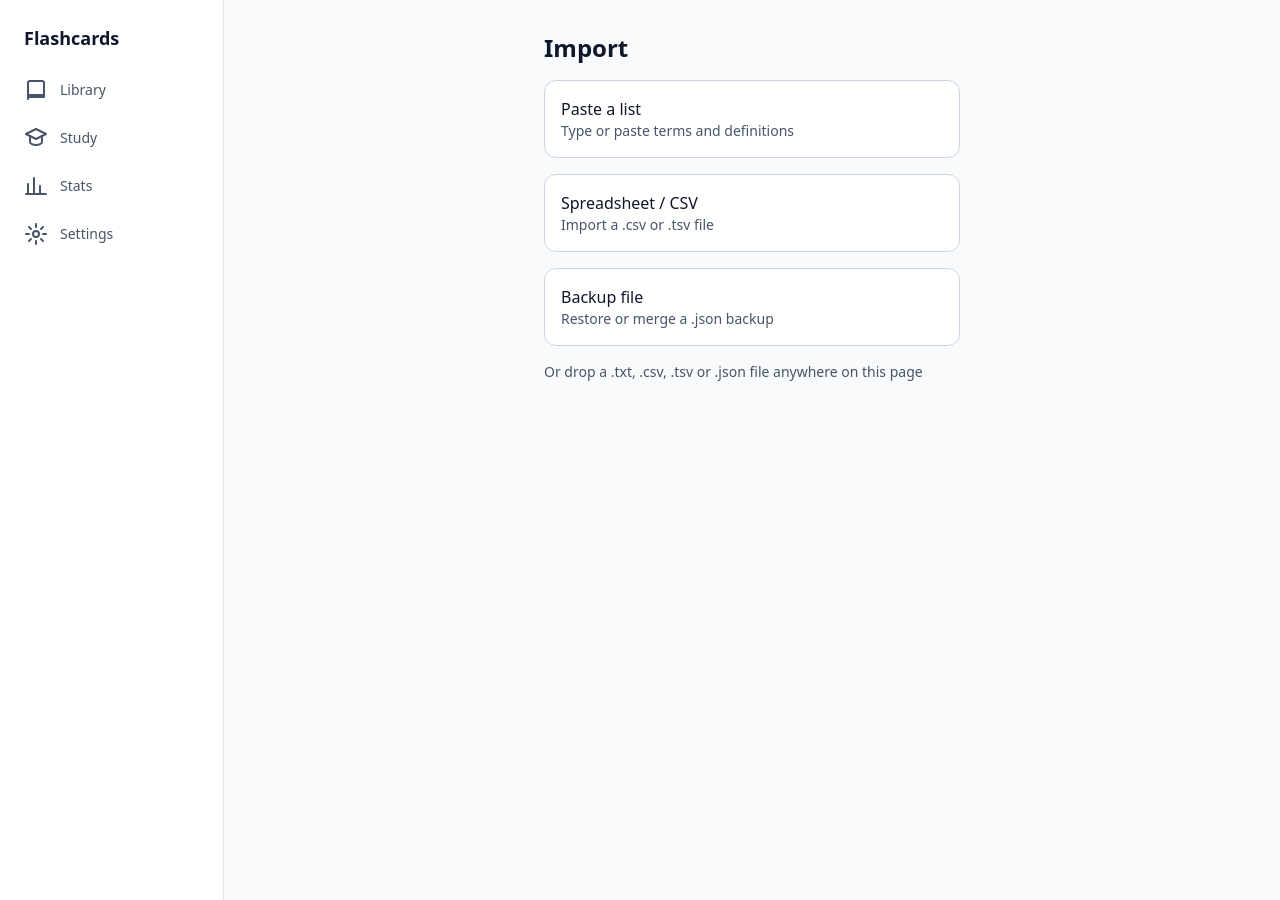
bulk paste dialog › shows the import hub without the dialog when not in paste mode
Expected: the button "Spreadsheet / CSV" is shown, [544,174,960,252]
Expected: the field labelled "Your list" is not shown
Click the button "Paste a list". click: (752, 119)
box: [544,80,960,158]
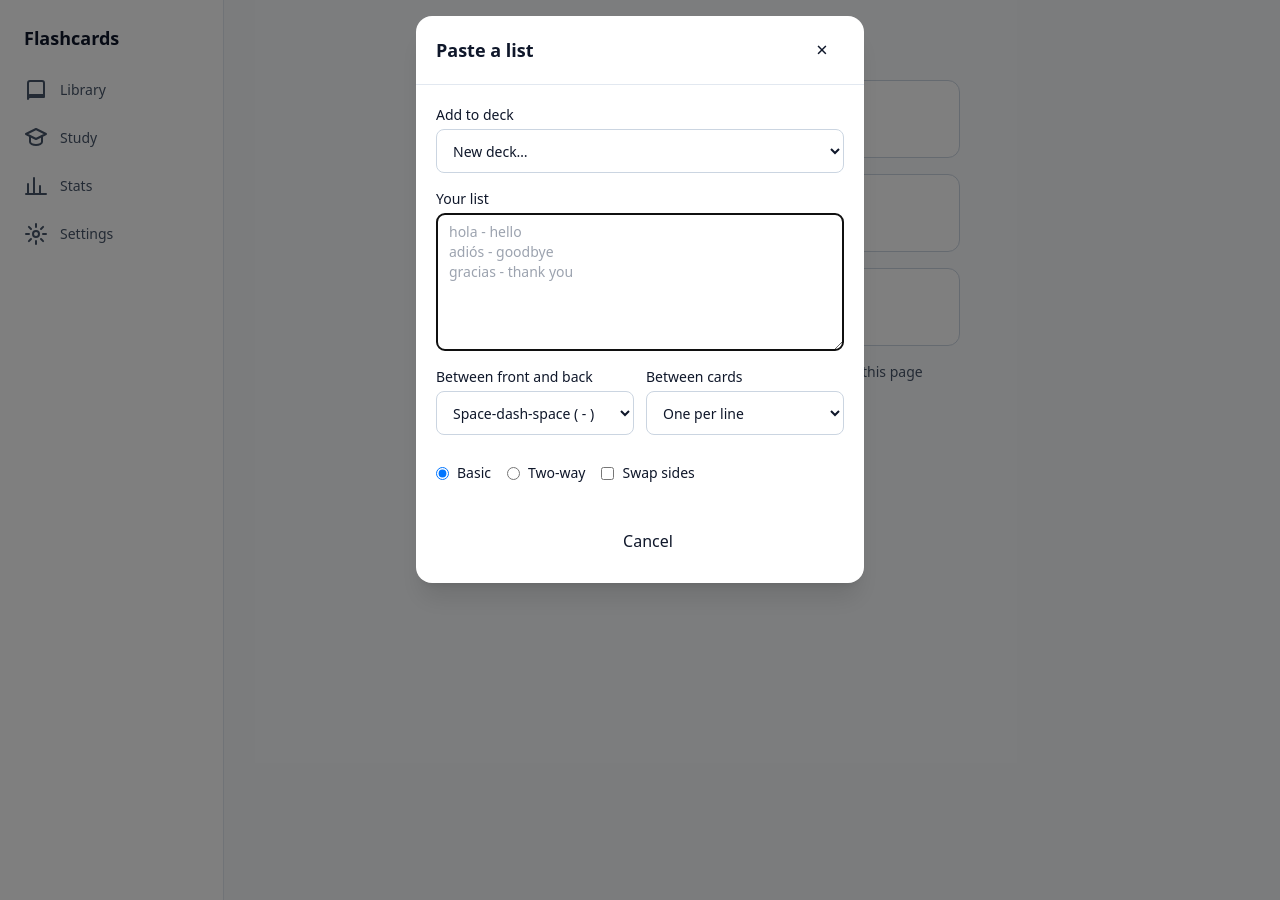
Expected: the text box labelled "Your list" is shown, [436,213,844,351]
